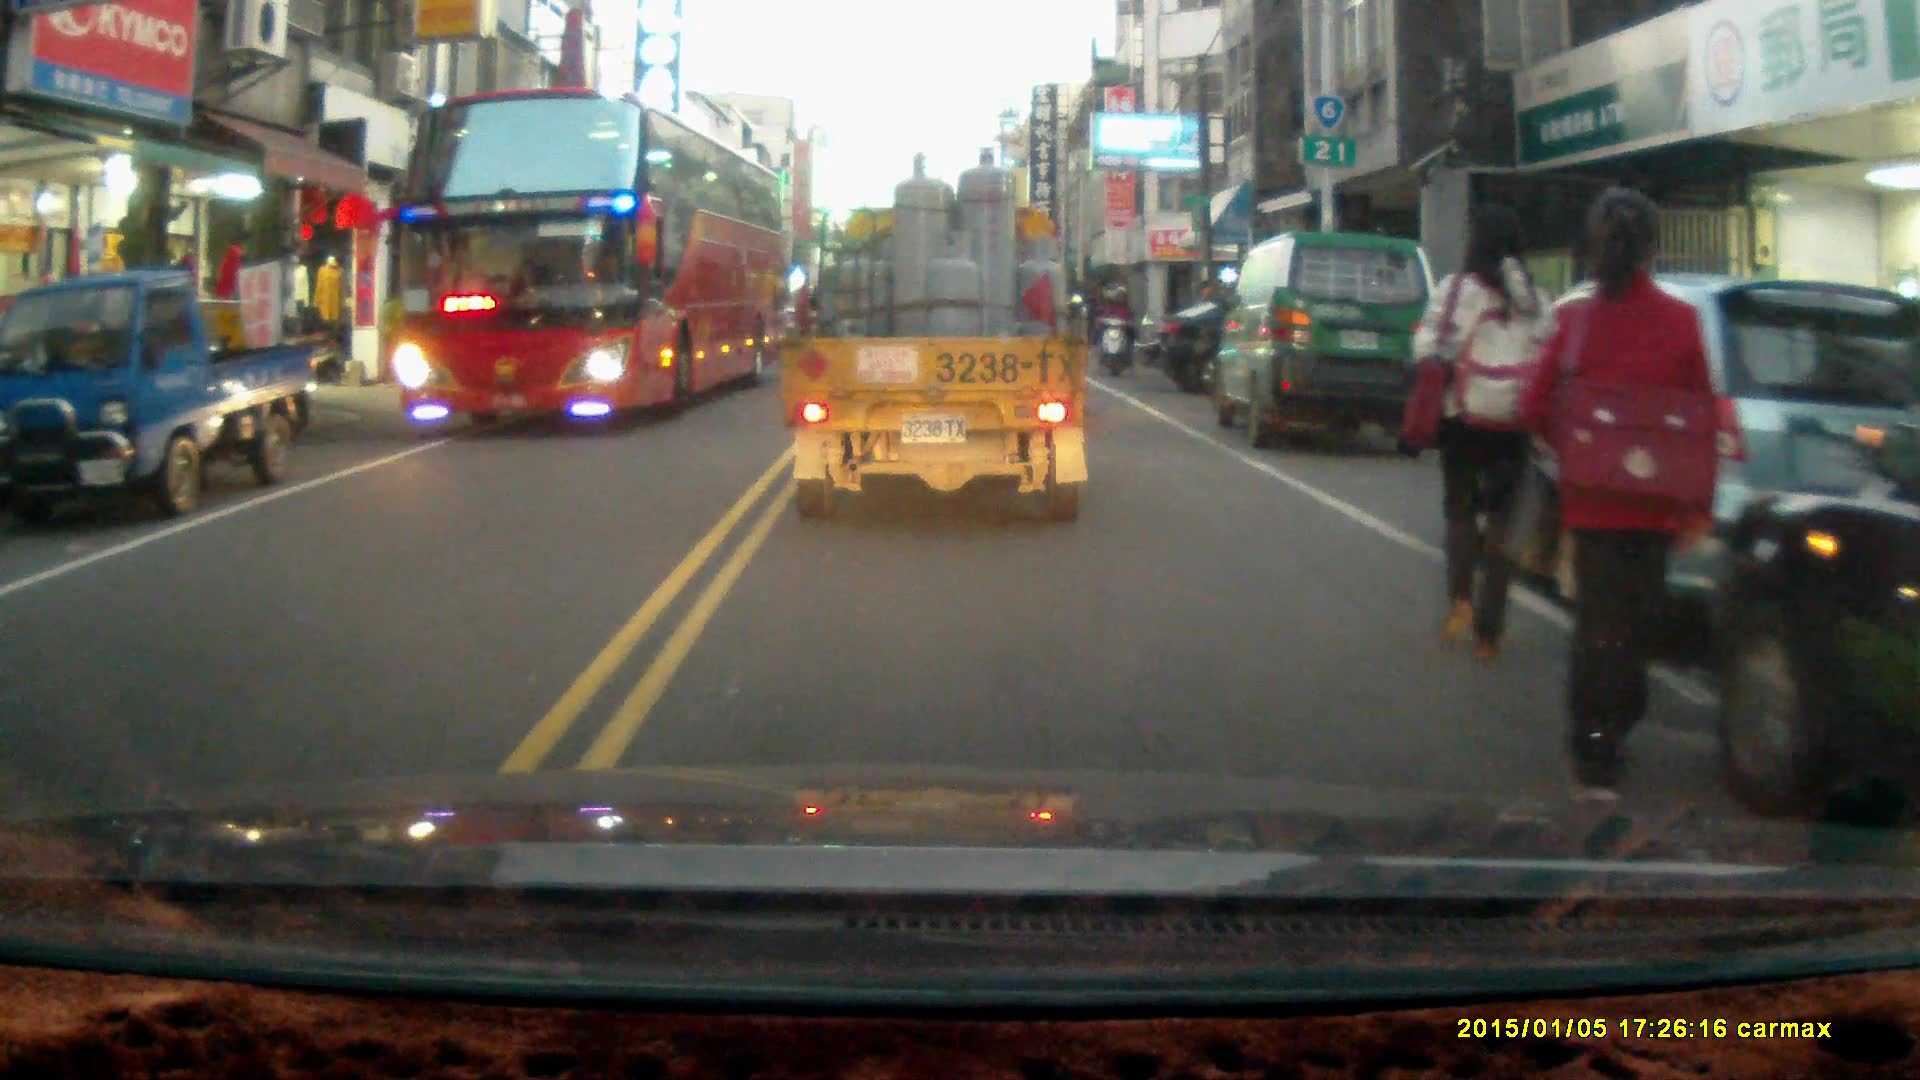pedestrian: (1516, 184, 1718, 815), (1412, 198, 1554, 672)
rider: (1092, 283, 1135, 376)
vehicle: (387, 89, 789, 435), (783, 146, 1094, 527), (1703, 461, 1920, 831), (1, 271, 324, 520), (1214, 228, 1441, 445), (1132, 302, 1426, 400)
